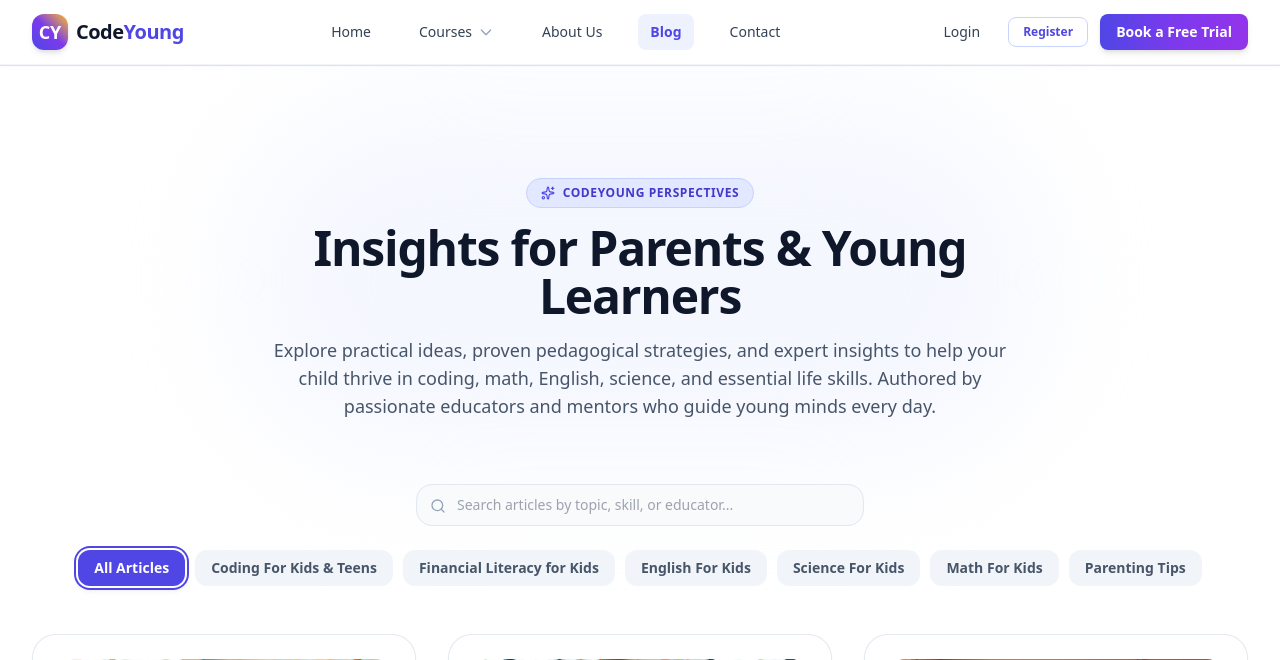
Test case: Landing Page & Navigation › navigates to dedicated /blog route and filters articles by category tab
Check: the text "Codeyoung Perspectives" is shown, box [563,185,739,201]
Check: the heading "Insights for Parents & Young Learners" is shown, box [256,224,1024,320]
Note: Filter by 'Financial Literacy for Kids'
Step 1. Click the button "Financial Literacy for Kids" → [509, 568], box [403,550,615,586]
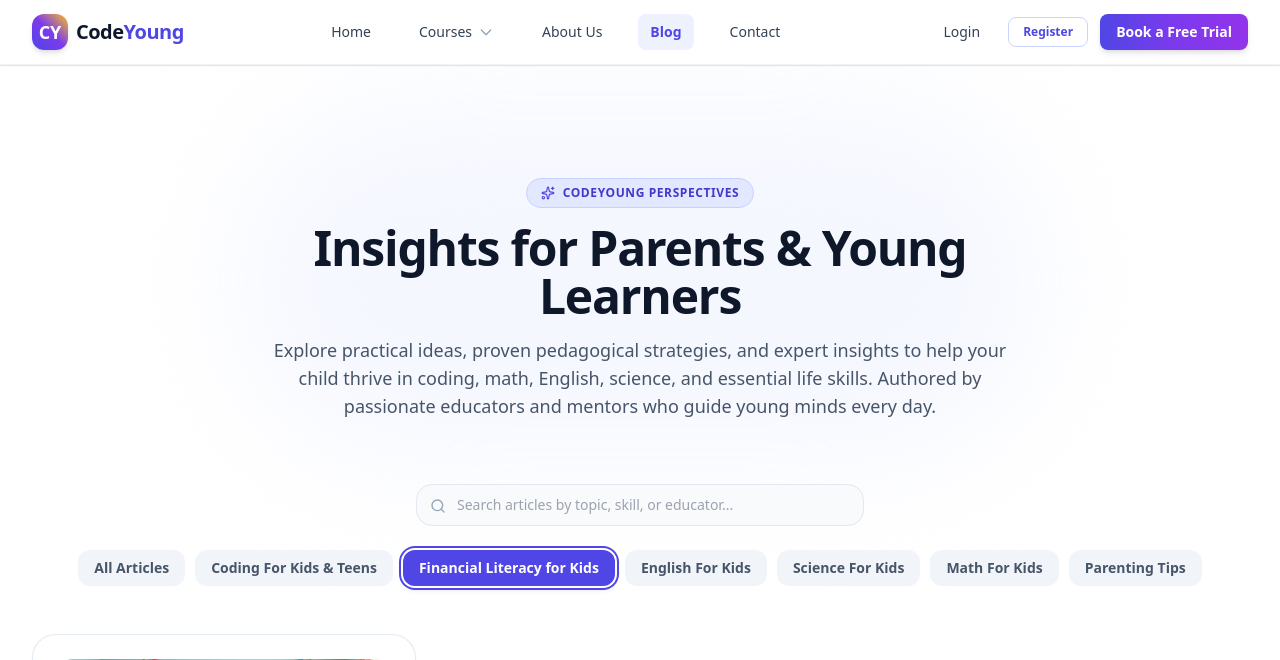
Note: Reset to 'All Articles'
Step 2. Click the button "All Articles" → [132, 568], box [78,550,185,586]
(page scrolled)
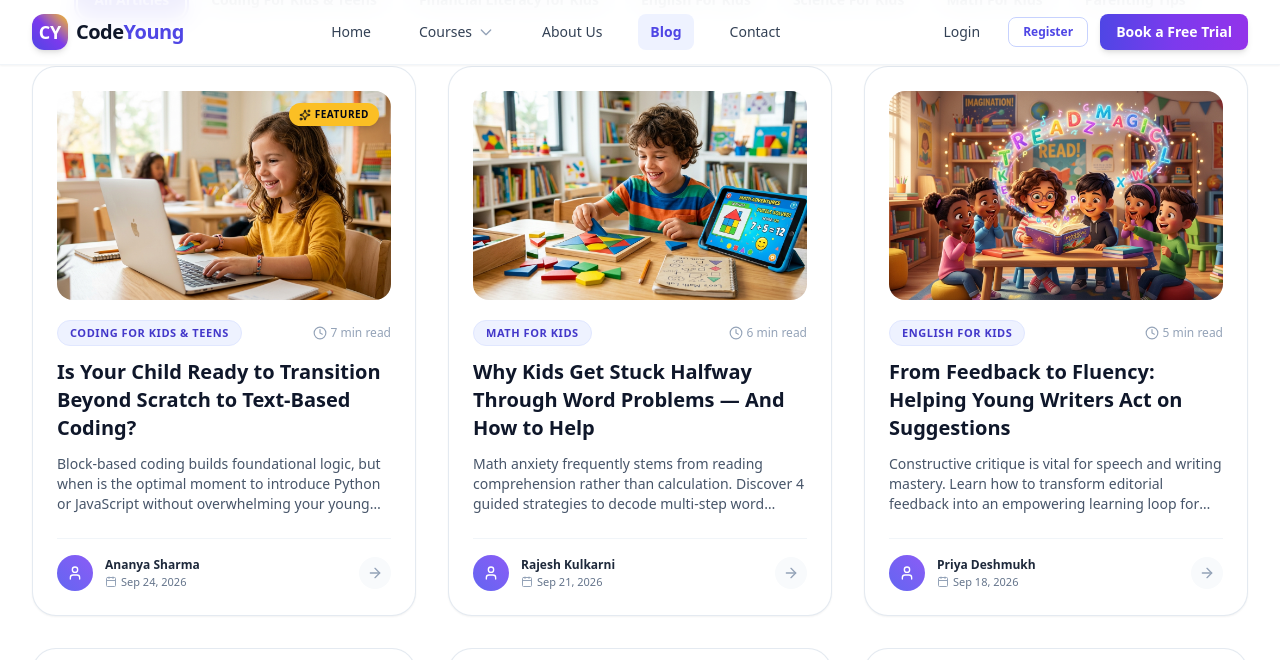
Check: the heading "Is Your Child Ready to Transition Beyond Scratch" is shown, box [57,358,381,441]
